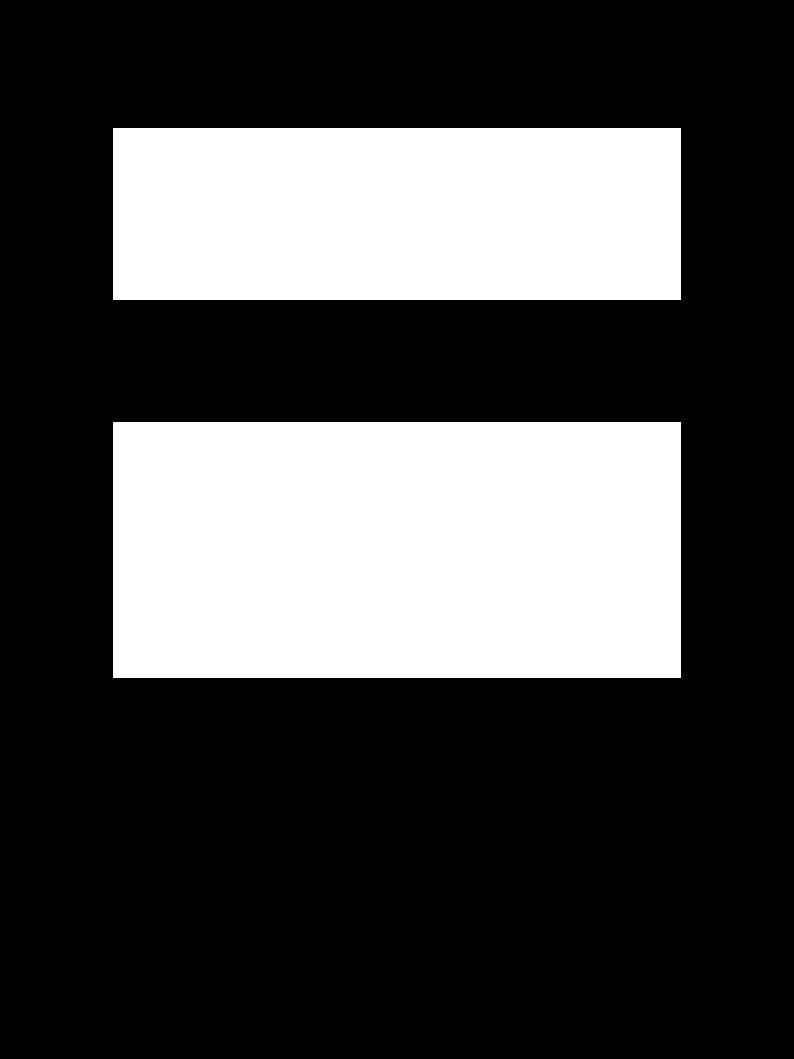table: (113, 422, 680, 677), (113, 128, 680, 299)
